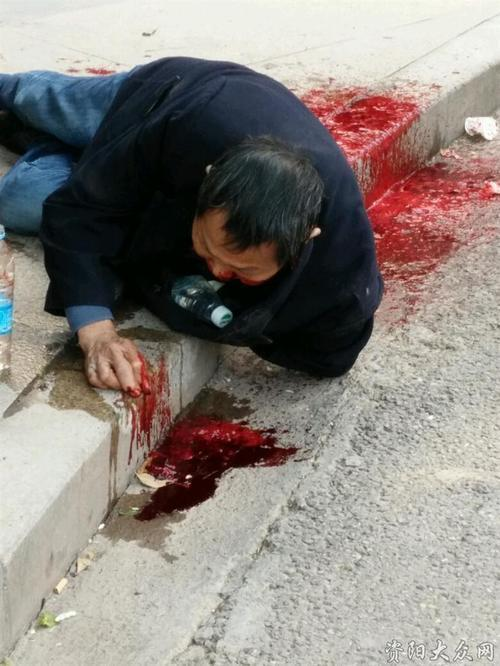Fall-Detected: (0, 24, 391, 427)
